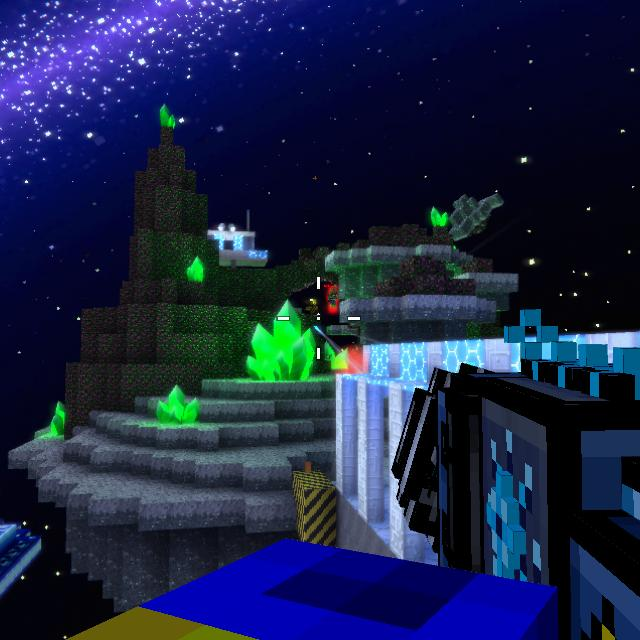Enemy: (326, 288, 337, 307)
